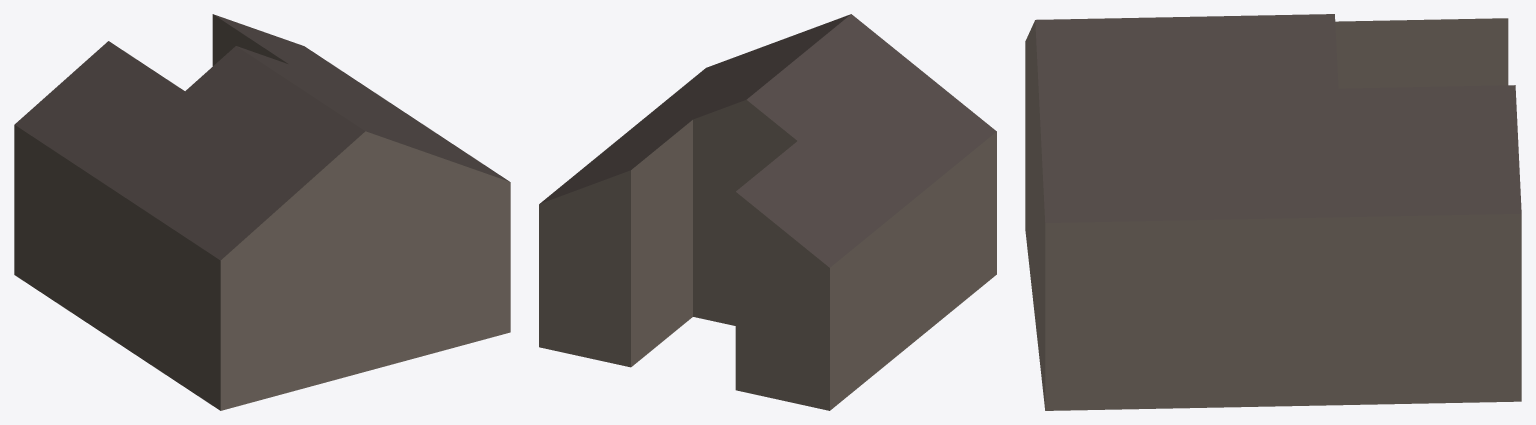
3 renders of one model, left to right at view 1: azimuth 30°, elevation 25°; view 2: azimuth 150°, elevation 25°; view 3: azimuth 270°, elevation 25°, orthographic. The views are drawn at different scales.
Visible parts, largest first — view 1: HP-w858807429; view 2: HP-w858807429; view 3: HP-w858807429.
Part boxes in pixels (x1,y1,x2,y2): HP-w858807429: (14,14,510,410); HP-w858807429: (539,14,996,410); HP-w858807429: (1025,14,1521,410).
Size of the model in its own units: 13.07 by 9.59 by 14.37.
